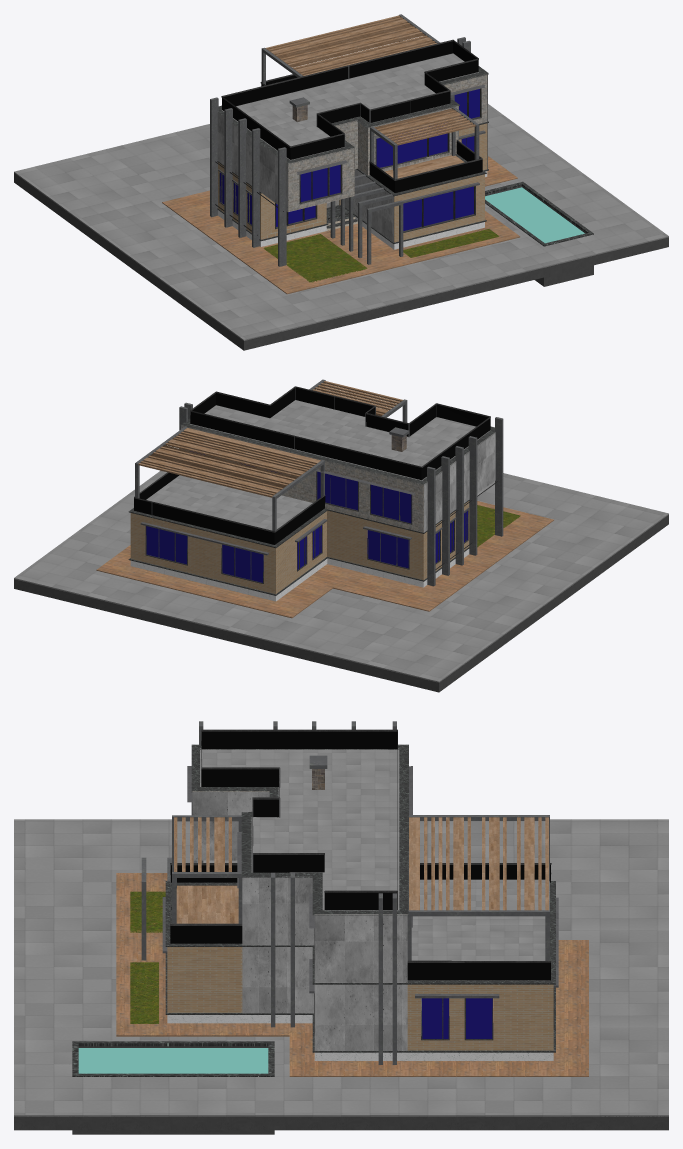
3 views of the same model, one above another, from view 1: azimuth 30°, elevation 25°; view 2: azimuth 150°, elevation 25°; view 3: azimuth 270°, elevation 25° (orthographic). The views are drawn at different scales.
Size of the model in its own units: 30.42 by 11.01 by 28.48.
24 materials, 19 textured.
